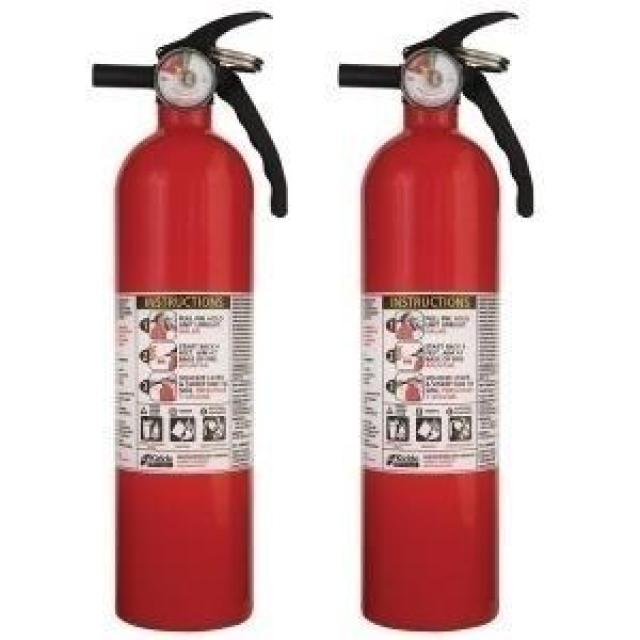fire_extinguisher: (330, 2, 538, 636), (84, 5, 291, 635)
